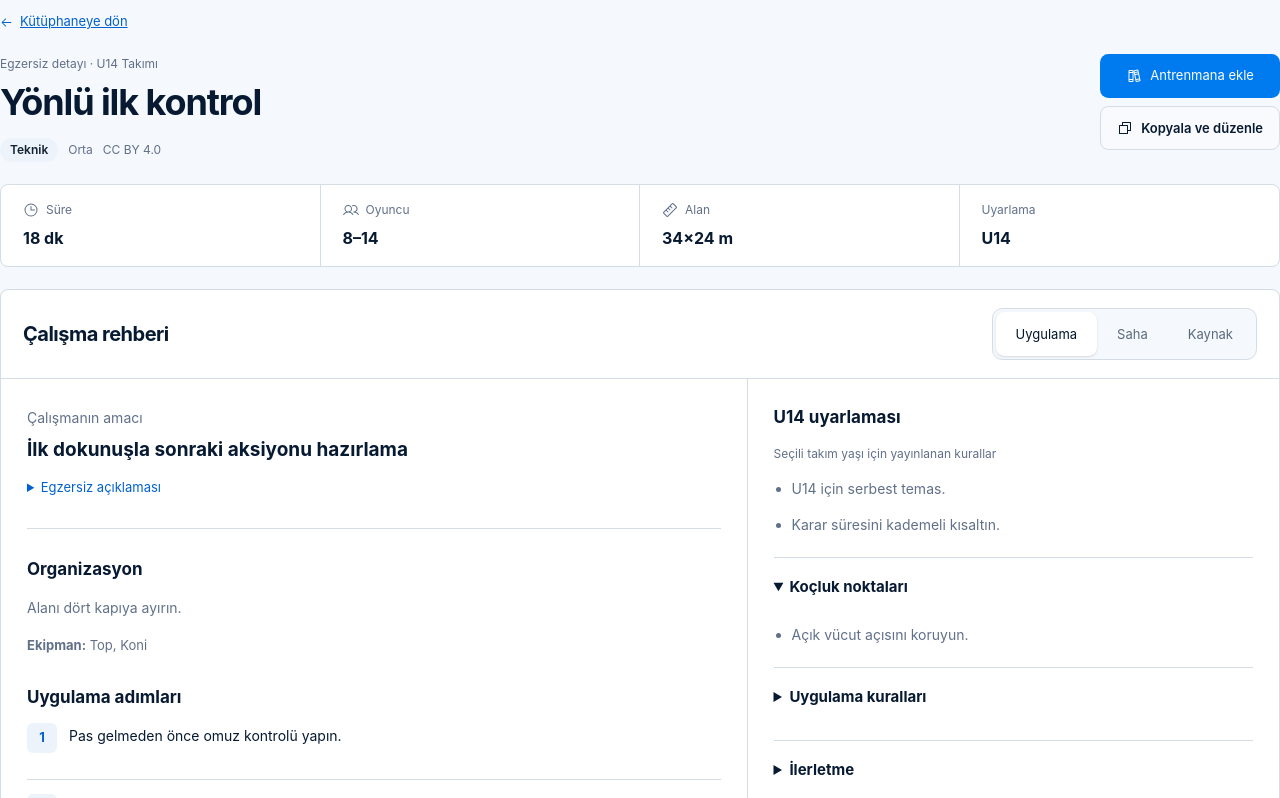
Test: exercise detail workspace › keeps attribution, license, author, adaptations and source URL in the source tab
Expected: the heading "Yönlü ilk kontrol" is shown, [0, 81, 261, 124]
Press the mouse on the tab "Kaynak" at (1210, 334), box [1168, 312, 1253, 356]
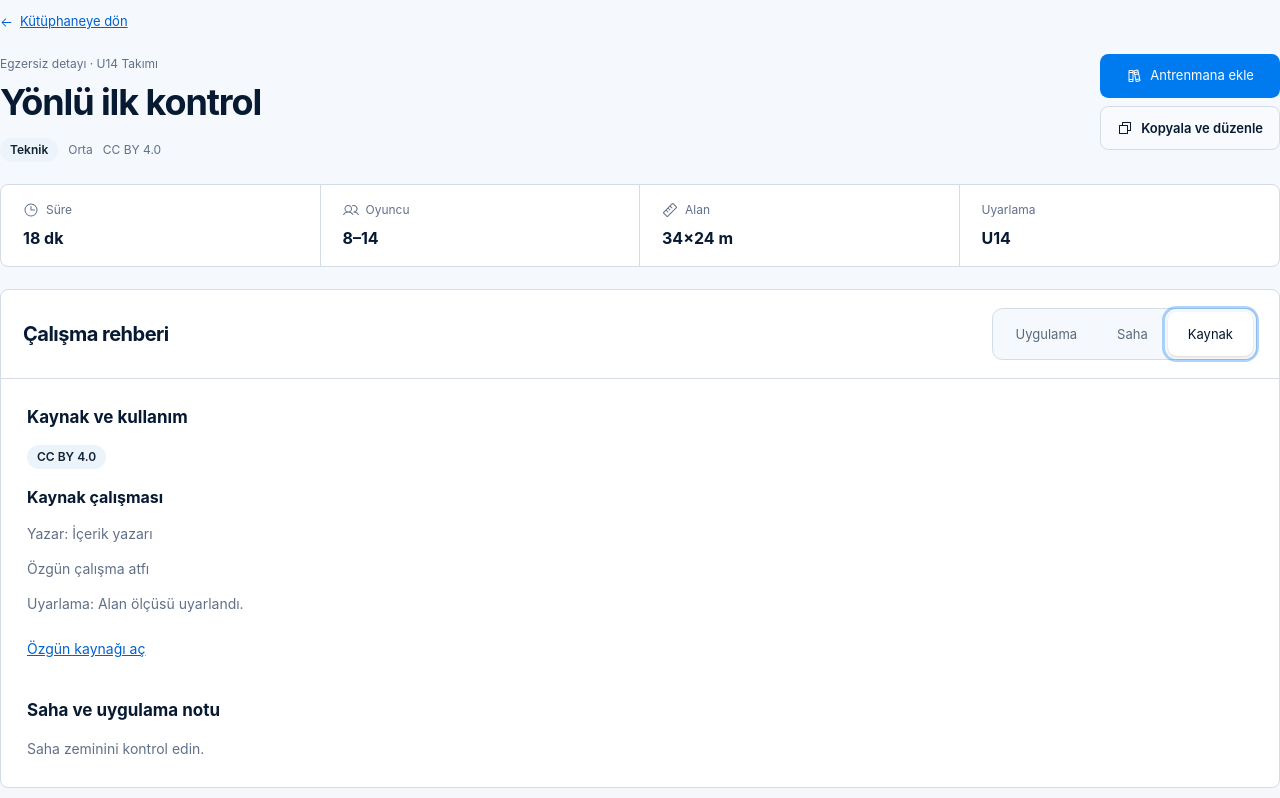
Result: the panel "Kaynak" shows "CC BY 4.0" at [37, 449, 96, 464]
Result: the panel "Kaynak" shows "Özgün çalışma atfı" at [27, 560, 149, 577]
Result: the panel "Kaynak" shows "İçerik yazarı" at [72, 525, 153, 542]
